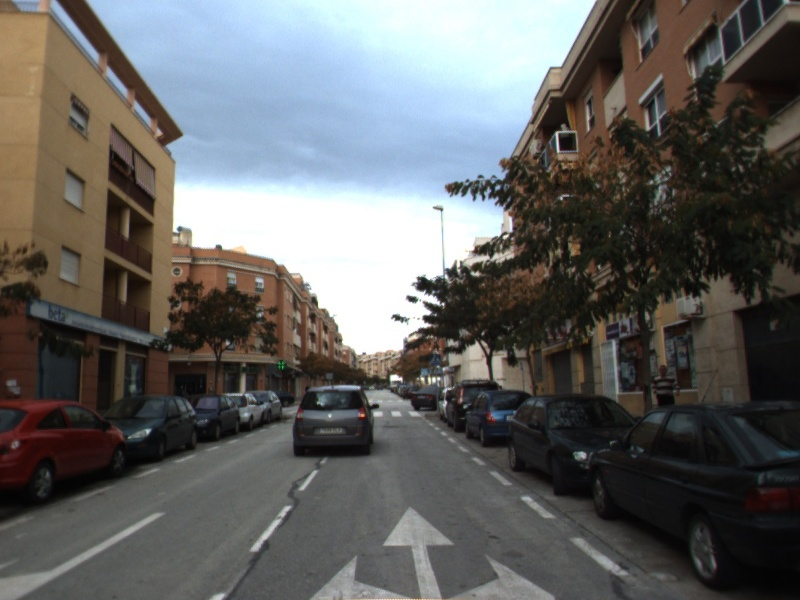STRAIGHT_LEFT_RIGHT: (305, 502, 561, 600)
